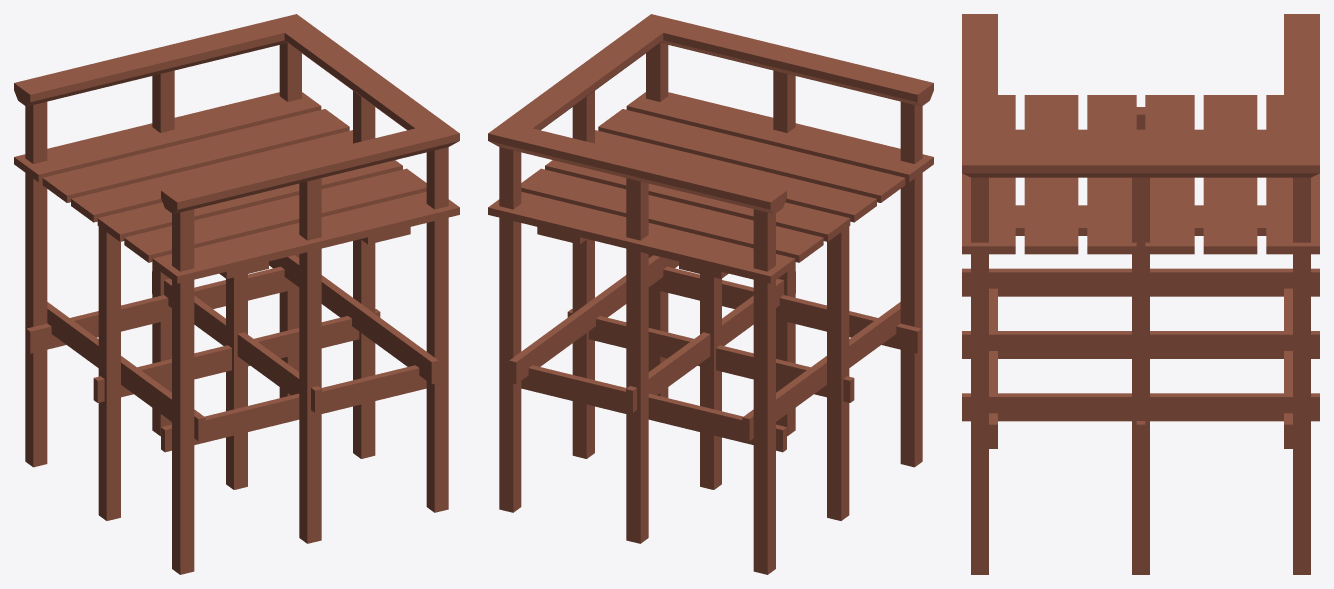
File: scaffold_high_cornerBoth 1.fbx
3 renders of one model, left to right at view 1: azimuth 30°, elevation 25°; view 2: azimuth 150°, elevation 25°; view 3: azimuth 270°, elevation 25°, orthographic. The views are drawn at different scales.
Visible parts, largest first — view 1: scaffold_high_cornerBoth; view 2: scaffold_high_cornerBoth; view 3: scaffold_high_cornerBoth.
Part boxes in pixels (<box>): scaffold_high_cornerBoth: <box>14,14,459,574</box>; scaffold_high_cornerBoth: <box>488,14,933,574</box>; scaffold_high_cornerBoth: <box>962,14,1319,574</box>.
Size of the model in its own units: 400 by 510 by 400.
